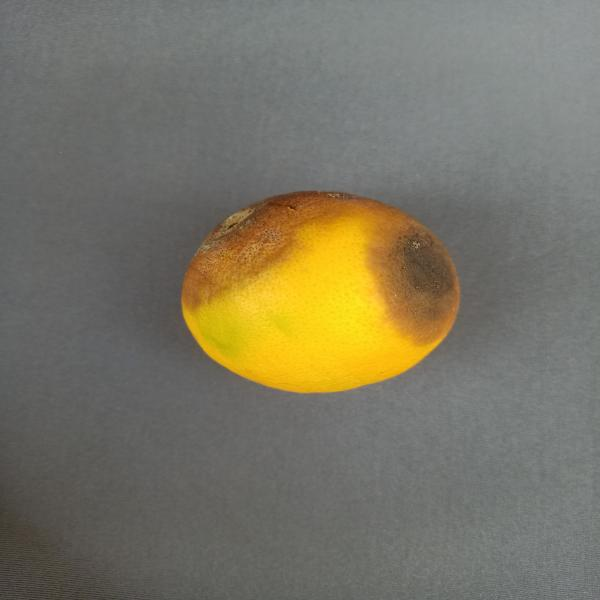Scab: (167, 173, 489, 396)
